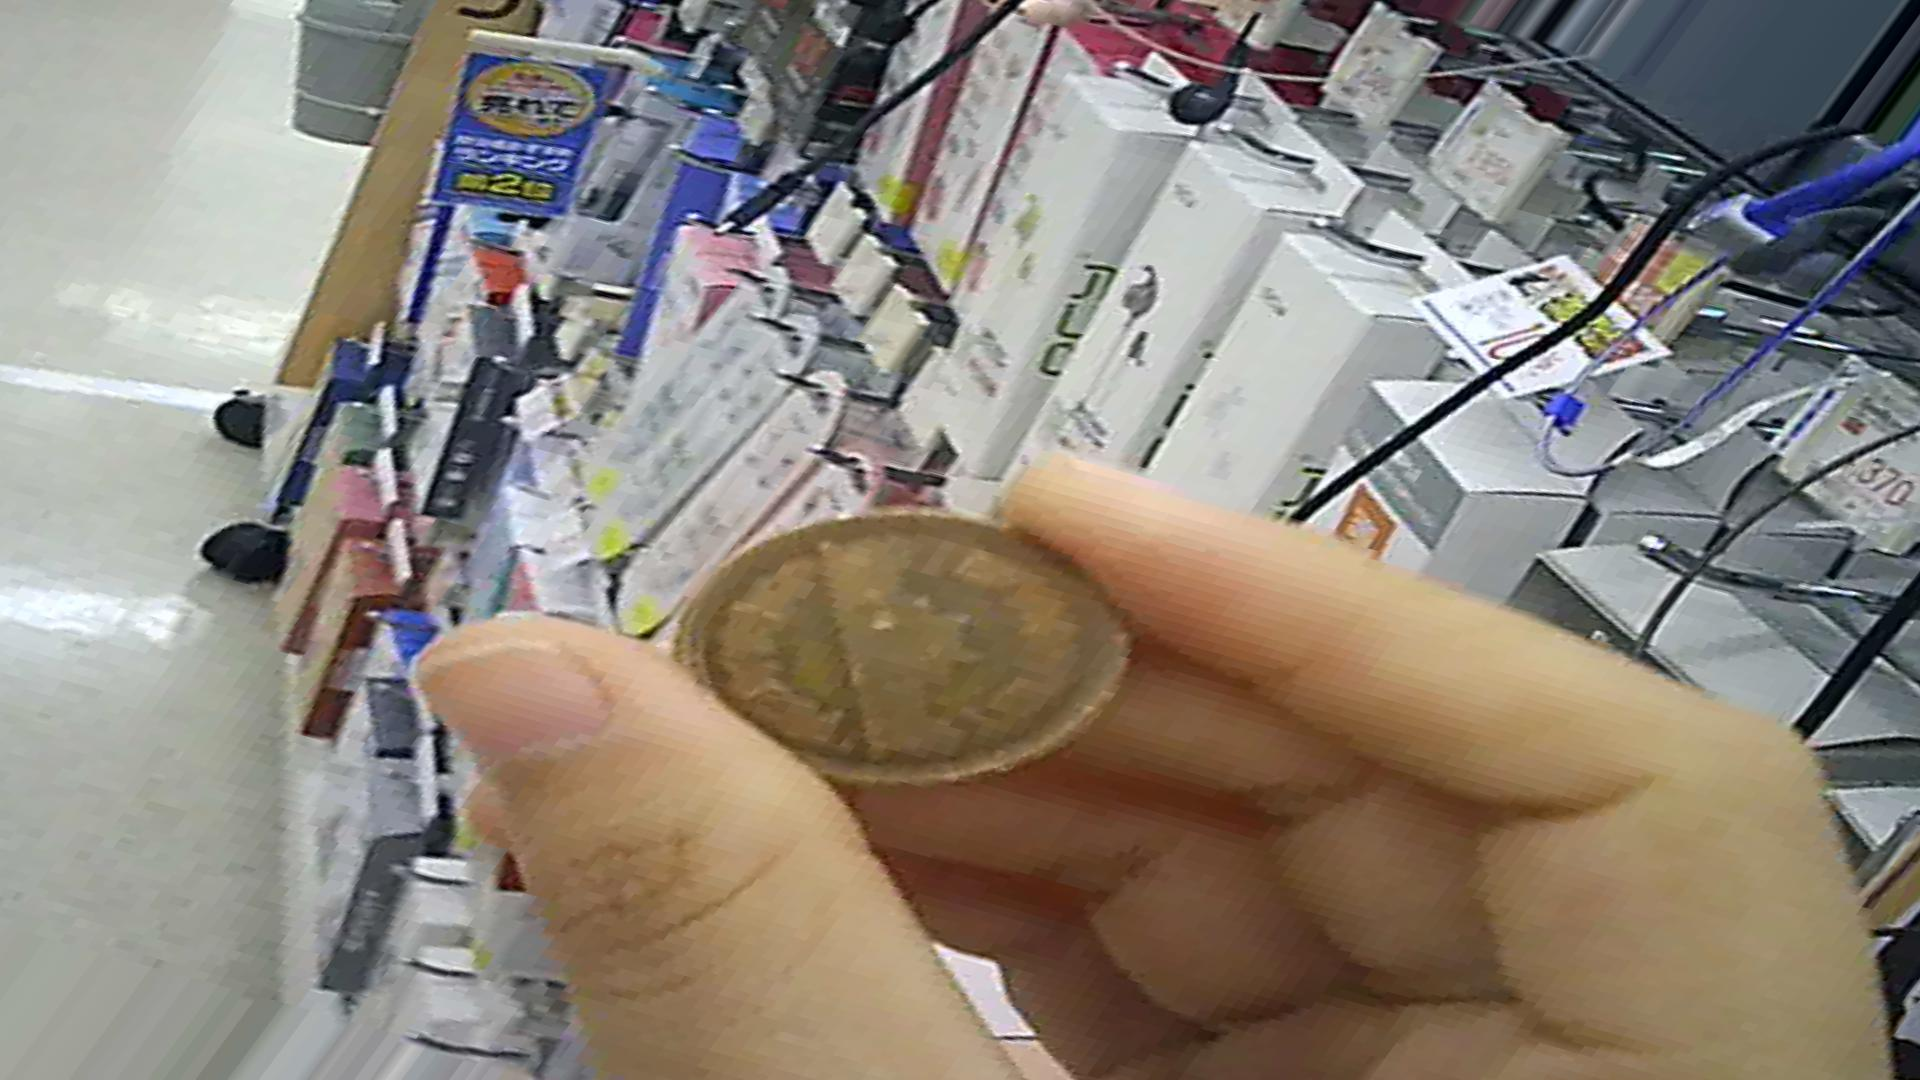10 Yen: (670, 522, 1134, 785)
